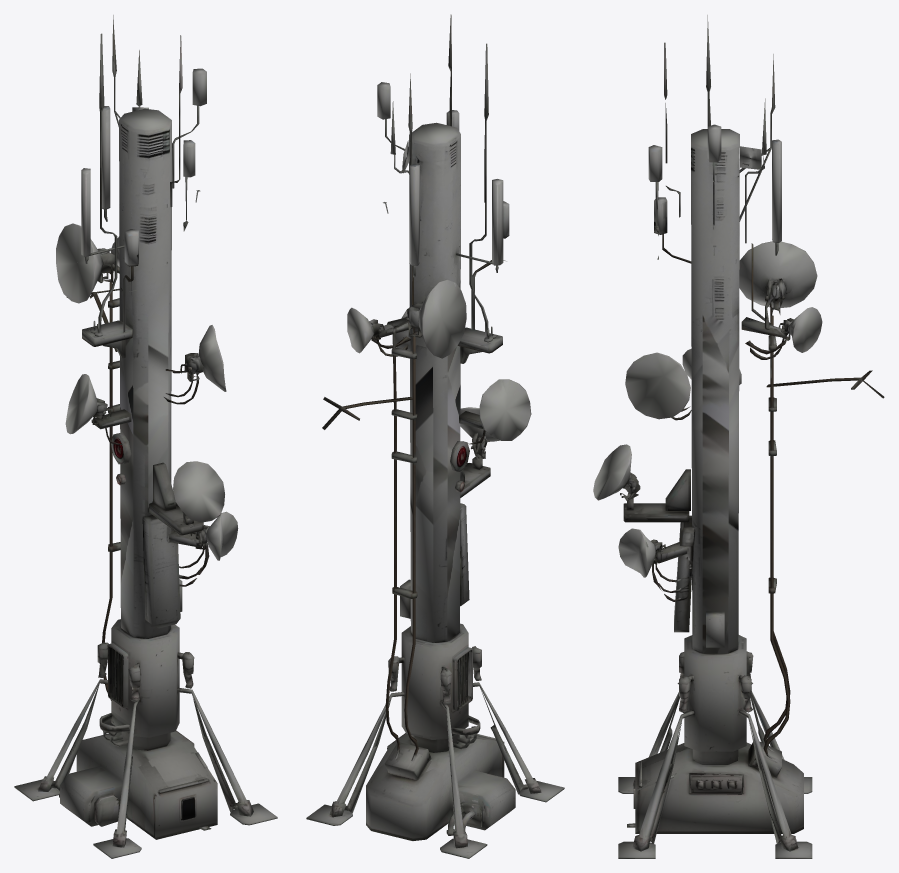
File: selected.glb
3 renders of one model, left to right at view 1: azimuth 30°, elevation 25°; view 2: azimuth 150°, elevation 25°; view 3: azimuth 270°, elevation 25°, orthographic.
Parts seen in each view (by area): view 1: tripo_node_5b14e471-4fa9-4026-be2b-f3685b5ad7e3; view 2: tripo_node_5b14e471-4fa9-4026-be2b-f3685b5ad7e3; view 3: tripo_node_5b14e471-4fa9-4026-be2b-f3685b5ad7e3.
Part boxes in pixels (box(x1,y1,x2,y2)): tripo_node_5b14e471-4fa9-4026-be2b-f3685b5ad7e3: box(14, 15, 277, 858); tripo_node_5b14e471-4fa9-4026-be2b-f3685b5ad7e3: box(306, 14, 564, 858); tripo_node_5b14e471-4fa9-4026-be2b-f3685b5ad7e3: box(593, 15, 884, 858).
Bounding box in the file's own units: 0.2207 × 0.998 × 0.3379.
Materials: 1 (1 with a texture image).
